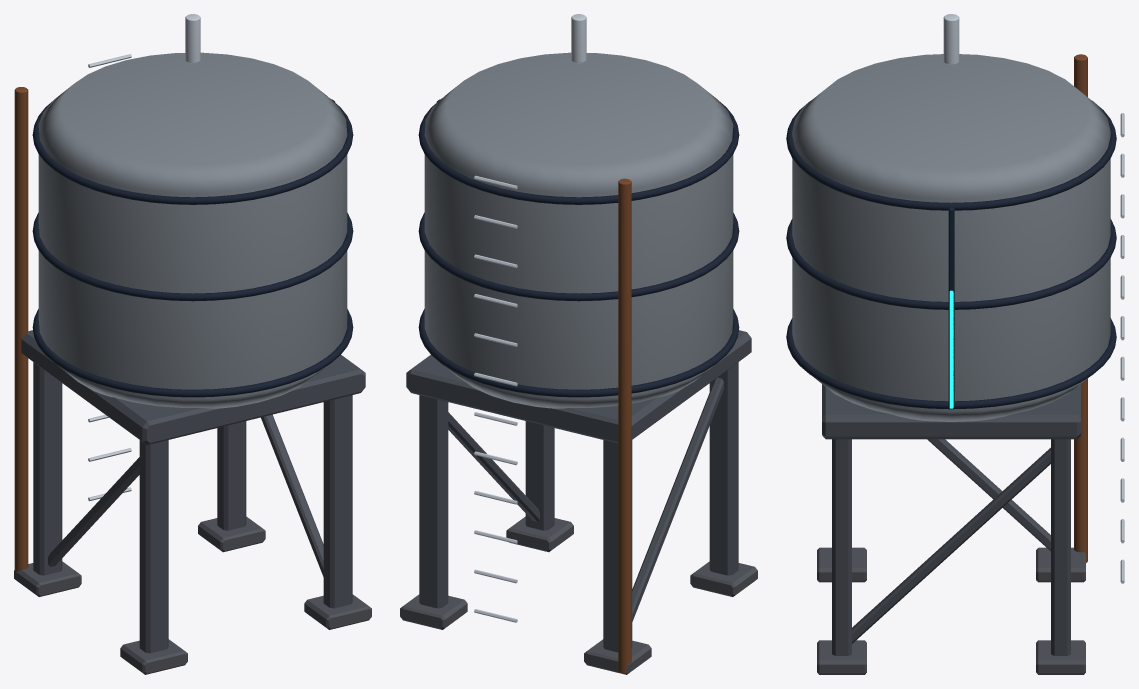
File: spire_watertank.glb
3 renders of one model, left to right at view 1: azimuth 30°, elevation 25°; view 2: azimuth 150°, elevation 25°; view 3: azimuth 270°, elevation 25°, orthographic. The views are drawn at different scales.
Parts seen in each view (by area): view 1: tank_body, tank_ring_beam, tank_overflow, tank_leg-1.11.1, tank_leg1.11.1, tank_leg-1.1-1.1, tank_band5.3, tank_band3.1, tank_leg1.1-1.1, tank_band4.2, tank_brace1, tank_brace-1 (+5 smaller); view 2: tank_body, tank_ring_beam, tank_overflow, tank_leg1.1-1.1, tank_leg-1.11.1, tank_leg-1.1-1.1, tank_band5.3, tank_brace-1, tank_band4.2, tank_band3.1, tank_leg1.11.1, tank_brace1 (+5 smaller); view 3: tank_body, tank_ring_beam, tank_leg1.1-1.1, tank_leg1.11.1, tank_band5.3, tank_brace1, tank_band3.1, tank_band4.2, tank_overflow, tank_brace-1, tank_foot1.1-1.1, tank_foot1.11.1 (+5 smaller).
Boxes of the visible parts, x1,y1,x2,y2 form: tank_body: (38,52,347,408); tank_ring_beam: (21,330,365,444); tank_overflow: (14,87,28,571); tank_leg-1.11.1: (139,440,168,653); tank_leg1.11.1: (323,395,352,608); tank_leg-1.1-1.1: (33,362,62,575); tank_band5.3: (32,98,353,204); tank_band3.1: (32,309,353,397); tank_leg1.1-1.1: (217,421,246,530); tank_band4.2: (32,212,353,301); tank_brace1: (261,414,323,576); tank_brace-1: (48,457,139,566); tank_body: (424,52,733,408); tank_ring_beam: (406,330,751,443); tank_overflow: (618,178,631,673); tank_leg1.1-1.1: (419,395,448,608); tank_leg-1.11.1: (709,362,738,575); tank_leg-1.1-1.1: (603,440,632,652); tank_band5.3: (418,98,739,204); tank_brace-1: (632,377,723,621); tank_band4.2: (418,212,739,301); tank_band3.1: (418,309,739,397); tank_leg1.11.1: (525,421,554,530); tank_brace1: (448,412,539,521); tank_body: (792,54,1110,421); tank_ring_beam: (822,384,1080,439); tank_leg1.1-1.1: (1051,439,1070,655); tank_leg1.11.1: (832,439,851,655); tank_band5.3: (786,100,1116,210); tank_brace1: (852,447,1050,643); tank_band3.1: (786,318,1116,409); tank_band4.2: (786,219,1116,309); tank_overflow: (1074,54,1087,562); tank_brace-1: (927,439,1050,551); tank_foot1.1-1.1: (1036,640,1085,674); tank_foot1.11.1: (817,640,866,674).
Size of what is drawn, in the model's own units: 3.36 by 6.69 by 3.4.
